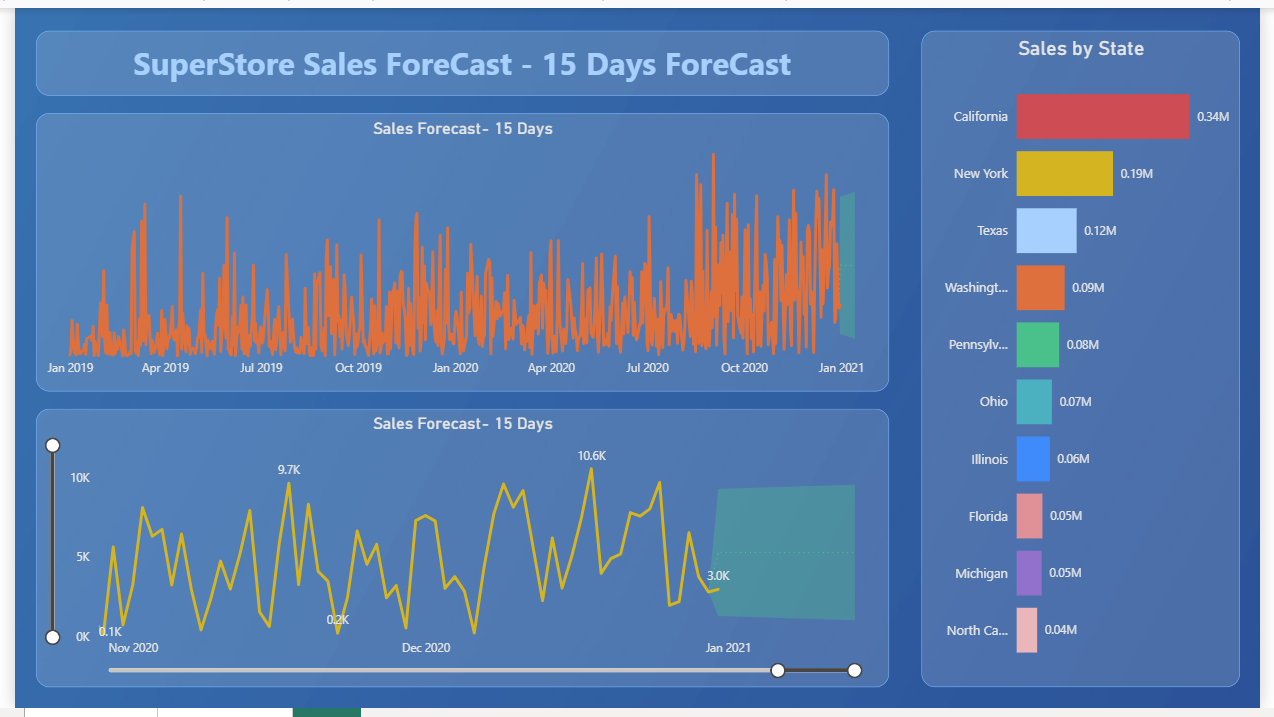

Layout of this report page (visuals, bound fields, positions):
{"tool":"powerbi","page":{"name":"Page 2","canvas":[1280,720],"ordinal":1},"visuals":[{"type":"lineChart","title":"Sales Forecast- 15 Days","fields":{"Y":["Sum(SuperStore_Sales_Dataset.Sales)"],"Category":["SuperStore_Sales_Dataset.Order Date"]},"box":[21.9,108.4,877,286.3],"z":0},{"type":"lineChart","title":"Sales Forecast- 15 Days","fields":{"Y":["Sum(SuperStore_Sales_Dataset.Sales)"],"Category":["SuperStore_Sales_Dataset.Order Date"]},"box":[21.9,411.7,877,286.3],"z":1000},{"type":"textbox","box":[21.9,23.1,877,67],"z":2000},{"type":"clusteredBarChart","title":"Sales by State","fields":{"Category":["SuperStore_Sales_Dataset.State"],"Y":["Sum(SuperStore_Sales_Dataset.Sales)"]},"box":[931.9,23.1,327.7,674.8],"z":2001}]}

Visuals, with their boxes in screenshot pixels (x1, y1, x2, y2), scaled from the page's 1280x720 canvas onto the 1274x717 screenshot:
"Sales Forecast- 15 Days" lineChart: x1=22, y1=108, x2=895, y2=393
"Sales Forecast- 15 Days" lineChart: x1=22, y1=410, x2=895, y2=695
textbox: x1=22, y1=23, x2=895, y2=90
"Sales by State" clusteredBarChart: x1=928, y1=23, x2=1254, y2=695
